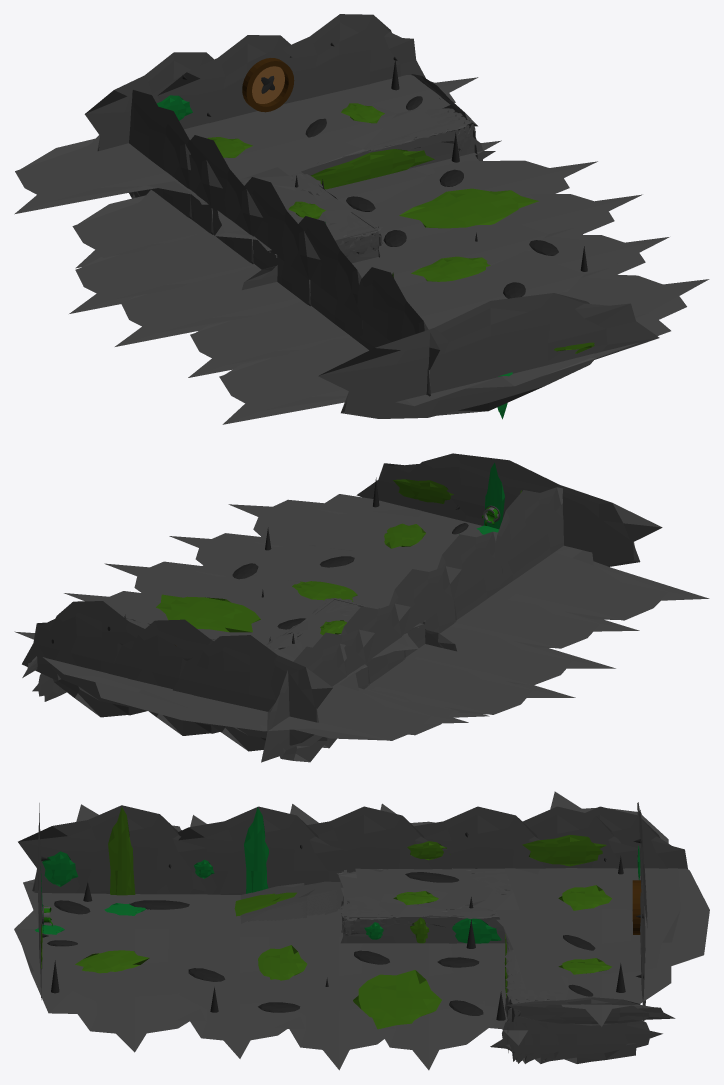
File: FossoFinalTexturaFunciona.fbx
3 views of the same model, one above another, from view 1: azimuth 30°, elevation 25°; view 2: azimuth 150°, elevation 25°; view 3: azimuth 270°, elevation 25° (orthographic). The views are drawn at different scales.
Visible parts, largest first — view 1: Cube, Cube.063, Cube.006, Cube.005, Cube.007, Cube.004, Cube.096, Cube.008, Cube.095, Cube.010, Cube.009, Cube.097 (+12 smaller); view 2: Cube.004, Cube.005, Cube.006, Cube, Cube.063, Cube.094, Cube.007, Cube.096, Cube.095, Cube.097, Cube.010, Cube.092 (+11 smaller); view 3: Cube.063, Cube.004, Cube.005, Cube.006, Cube.097, Cube.009, Cube.007, Cube.038, Cube.011, Cube.010, Cube.073, Cube.111 (+25 smaller).
Boxes of the visible parts, box(x1,y1,x2,y2) form: Cube: box(318, 293, 659, 418); Cube.063: box(14, 75, 478, 214); Cube.006: box(115, 194, 642, 346); Cube.005: box(188, 235, 669, 377); Cube.007: box(69, 160, 597, 313); Cube.004: box(219, 274, 709, 424); Cube.096: box(282, 14, 425, 104); Cube.008: box(72, 140, 501, 268); Cube.095: box(157, 35, 290, 129); Cube.010: box(244, 177, 320, 306); Cube.009: box(298, 216, 362, 343); Cube.097: box(357, 267, 439, 396); Cube.004: box(228, 494, 709, 620); Cube.005: box(169, 532, 639, 648); Cube.006: box(104, 561, 615, 685); Cube: box(356, 453, 662, 566); Cube.063: box(14, 631, 468, 740); Cube.094: box(173, 635, 332, 751); Cube.007: box(64, 591, 575, 714); Cube.096: box(22, 601, 147, 717); Cube.095: box(108, 619, 219, 735); Cube.097: box(495, 487, 563, 588); Cube.010: box(389, 566, 461, 656); Cube.092: box(261, 644, 346, 762); Cube.063: box(496, 791, 709, 1026); Cube.004: box(14, 804, 200, 1052); Cube.005: box(169, 815, 300, 1058); Cube.006: box(269, 804, 395, 1070); Cube.097: box(18, 805, 206, 894); Cube.009: box(178, 806, 346, 894); Cube.007: box(361, 803, 495, 1070); Cube.038: box(338, 868, 506, 917); Cube.011: box(414, 806, 565, 868); Cube.010: box(307, 806, 451, 872); Cube.073: box(490, 1020, 662, 1063); Cube.111: box(353, 970, 441, 1029).
Size of the model in its own units: 41689 by 11571 by 45794.
